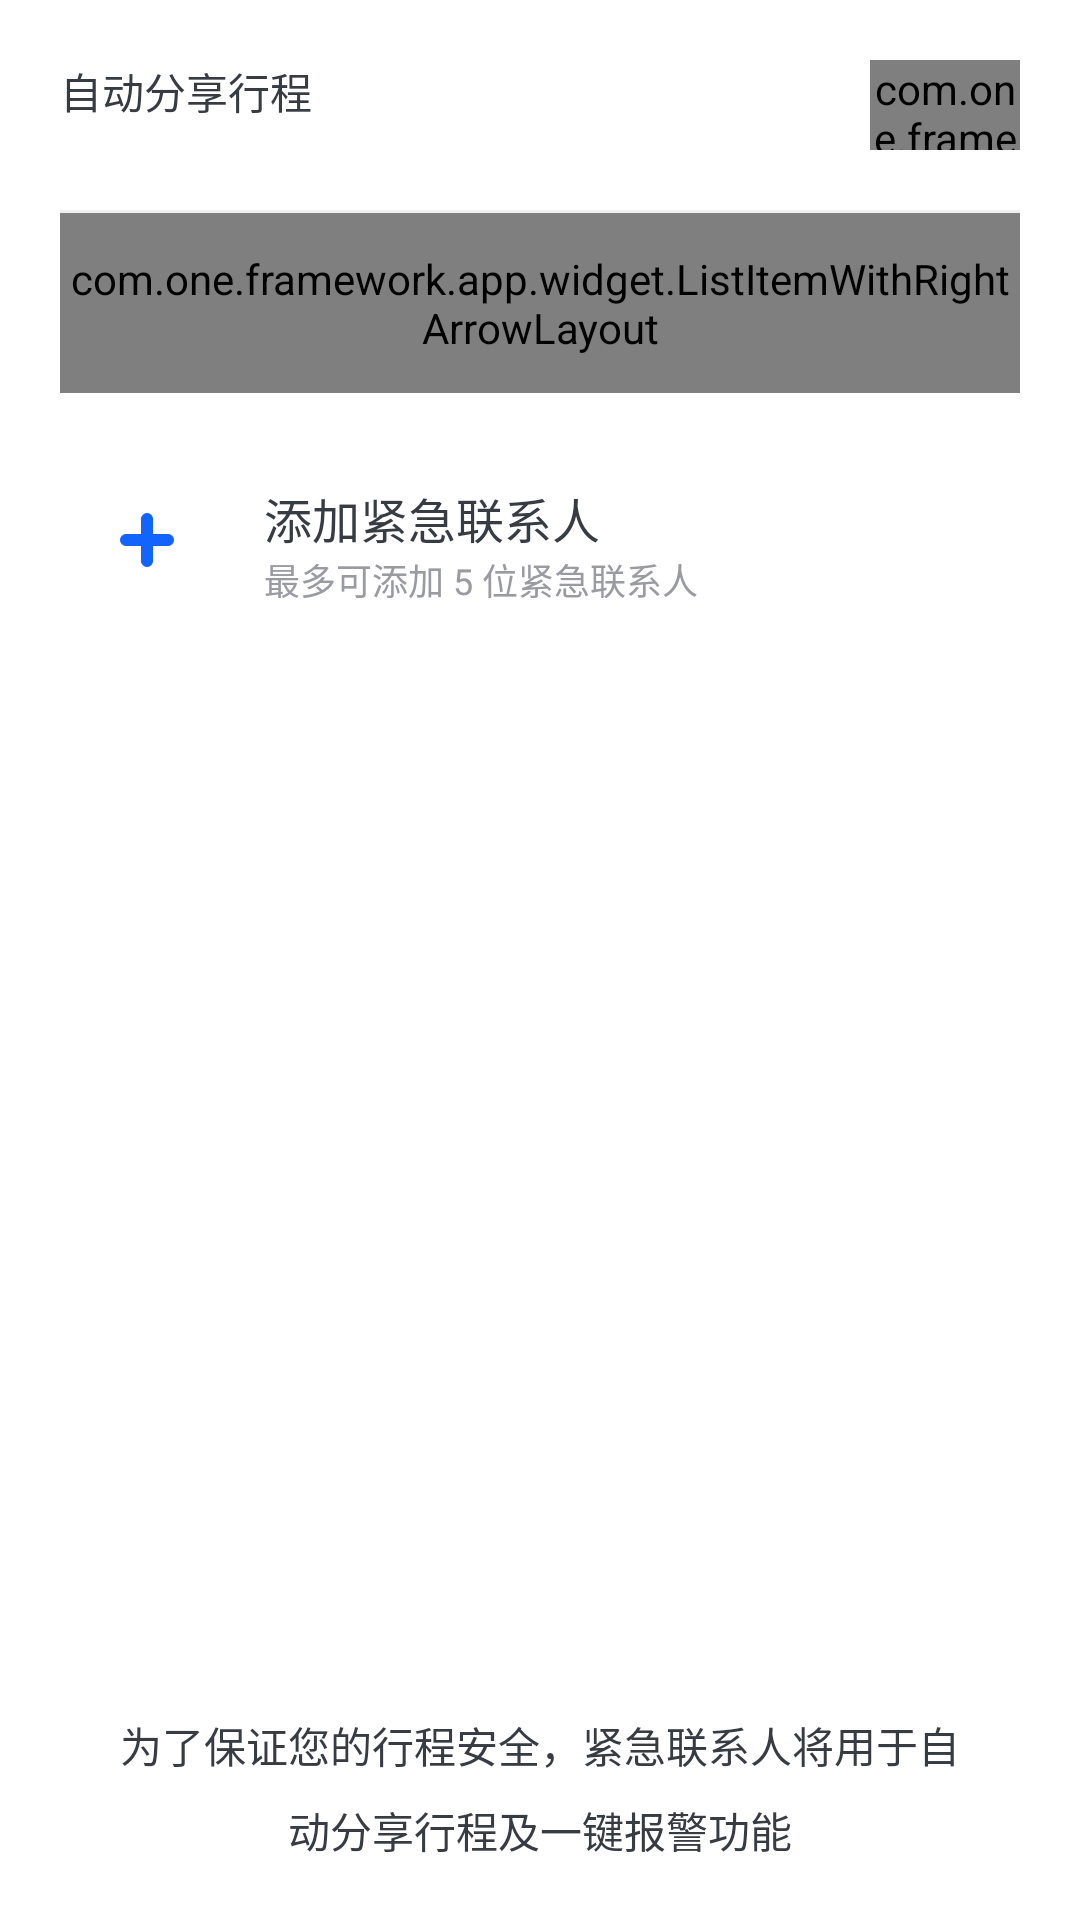

Where to tap for icons on this 1080w x 1920h app screen, as (x,y):
one add emergent contact: (147,540)
